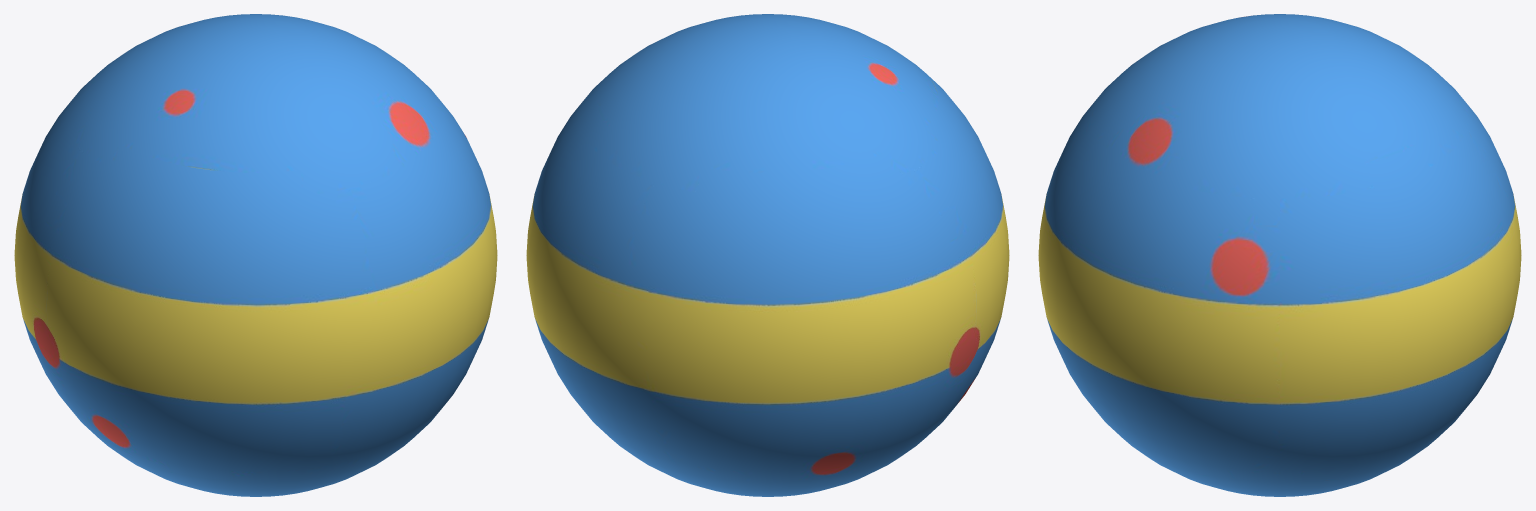
File: ball.glb
3 views of the same model, side by side, from view 1: azimuth 30°, elevation 25°; view 2: azimuth 150°, elevation 25°; view 3: azimuth 270°, elevation 25° (orthographic).
Visible parts, largest first — view 1: ball; view 2: ball; view 3: ball.
Boxes of the visible parts, x1,y1,x2,y2 form: ball: (14,14,497,496); ball: (526,14,1009,496); ball: (1038,14,1521,496).
Bounding box in the file's own units: 8 × 8 × 8.
1 material, 1 textured.
